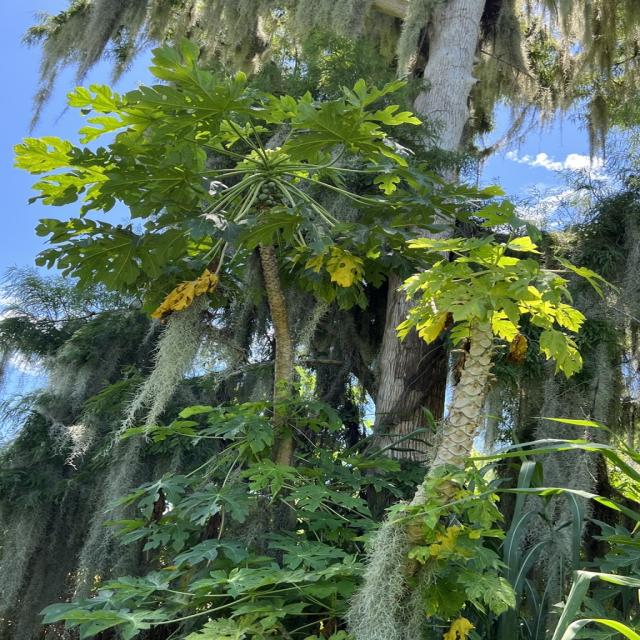Papaya-Tree: (0, 76, 433, 426), (392, 223, 593, 564)
